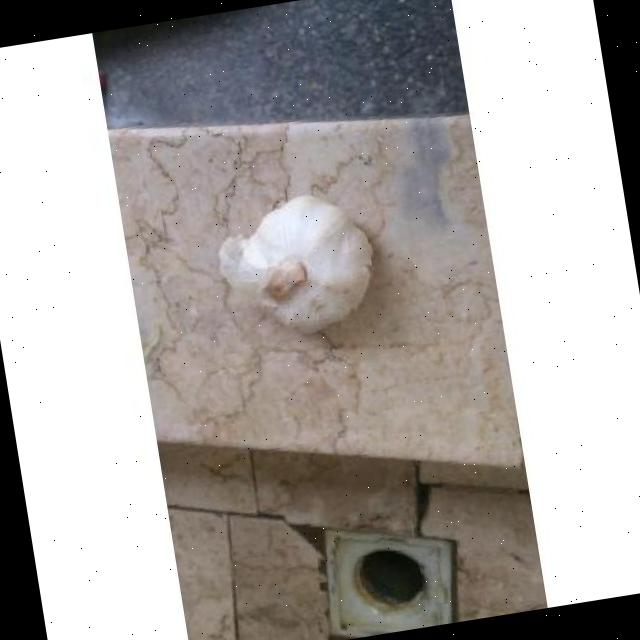garlic: (218, 194, 371, 332)
